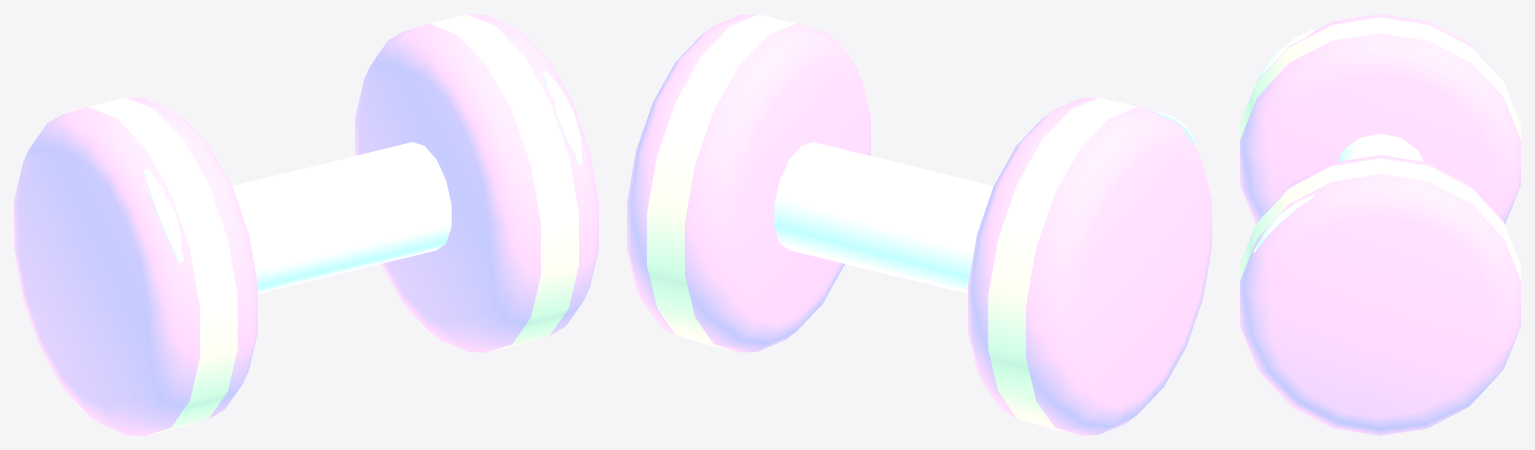
Rendered from props__Dumbbell.glb.
The picture shows the model from 3 angles, left to right: view 1: azimuth 30°, elevation 25°; view 2: azimuth 150°, elevation 25°; view 3: azimuth 270°, elevation 25°; orthographic projection. The views are drawn at different scales.
Parts seen in each view (by area): view 1: Dumbbell; view 2: Dumbbell; view 3: Dumbbell.
Part boxes in pixels (x1=…): Dumbbell: x1=14, y1=14, x2=598, y2=435; Dumbbell: x1=627, y1=14, x2=1211, y2=435; Dumbbell: x1=1240, y1=14, x2=1520, y2=435.
Size of the model in its own units: 1.53 by 1 by 0.9848.
